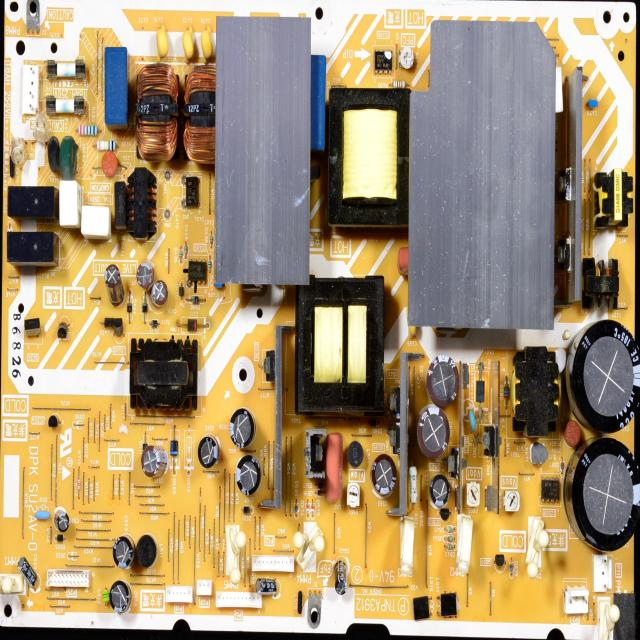Capacitor Jumper: (568, 319, 640, 431), (573, 437, 639, 551), (427, 358, 459, 402), (417, 410, 449, 451), (227, 407, 255, 452), (369, 454, 397, 497), (235, 455, 262, 496), (328, 433, 342, 503), (197, 438, 217, 469), (430, 480, 451, 505), (112, 540, 131, 566), (184, 24, 196, 63), (151, 279, 168, 306), (110, 587, 129, 611), (141, 449, 157, 476), (156, 23, 167, 61), (136, 262, 153, 286), (406, 304, 418, 336), (202, 28, 213, 62), (56, 514, 69, 530), (586, 96, 598, 112), (213, 278, 225, 290)
Resistor Jumper: (504, 488, 520, 514), (347, 482, 360, 512), (467, 483, 480, 508), (96, 138, 118, 152), (410, 464, 417, 507), (531, 444, 545, 464), (78, 124, 98, 137), (389, 78, 406, 89)
